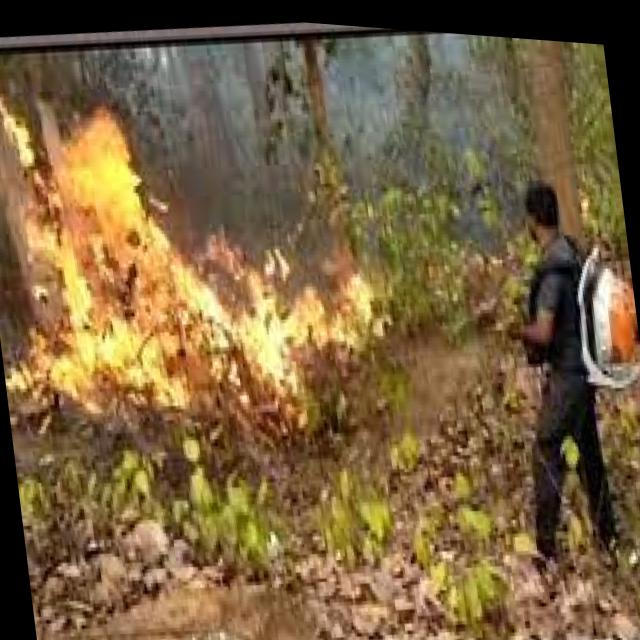Fire: (0, 31, 410, 502)
